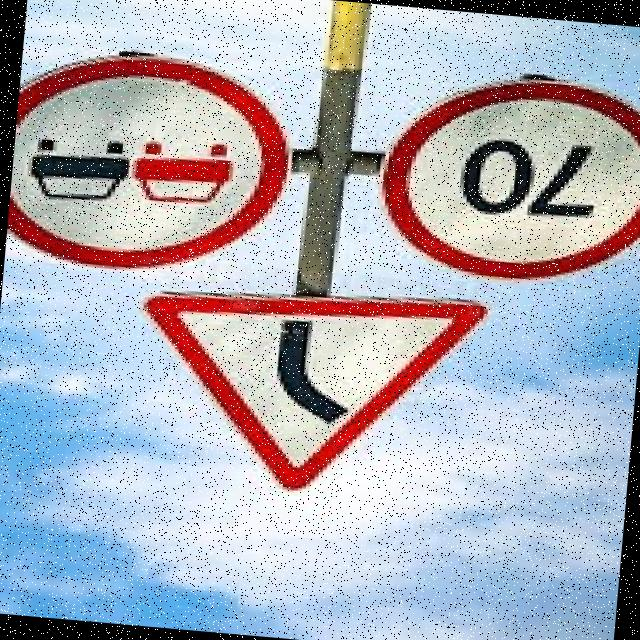speed_limit_70: (371, 66, 640, 291)
